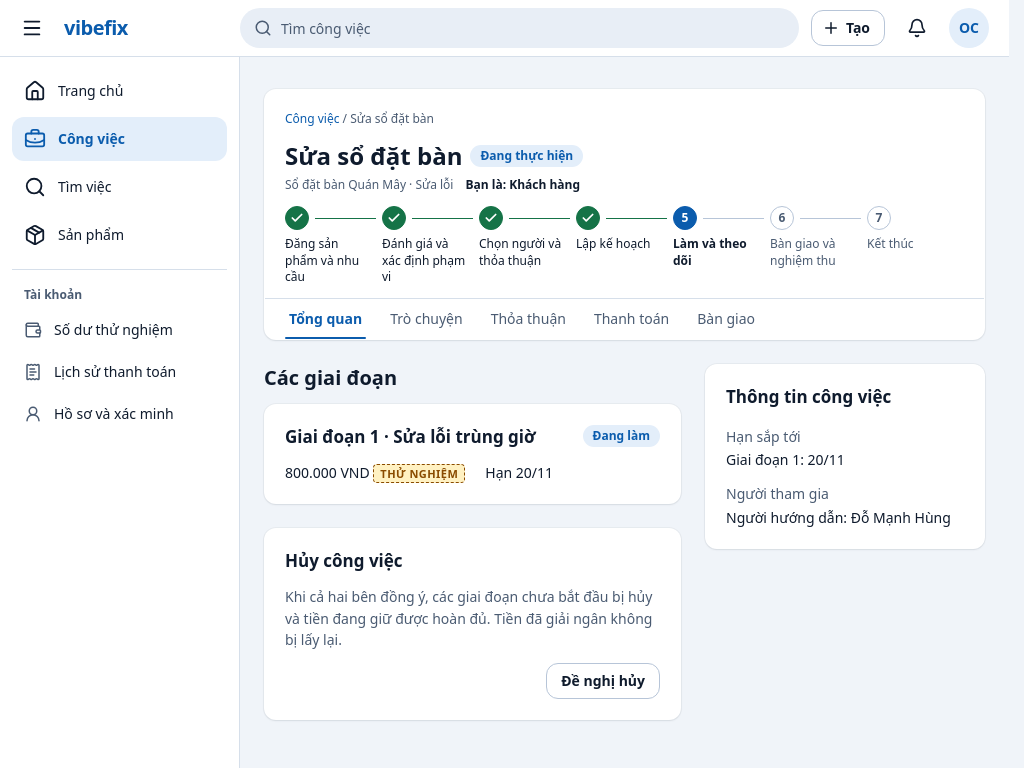
JOB-1 cancellation by agreement (FR-40) › lets the Customer propose cancelling the remaining Milestones with a reason
The image size is (1024, 768).
Click the button "Đề nghị hủy": (603, 681) [546,663,660,699]
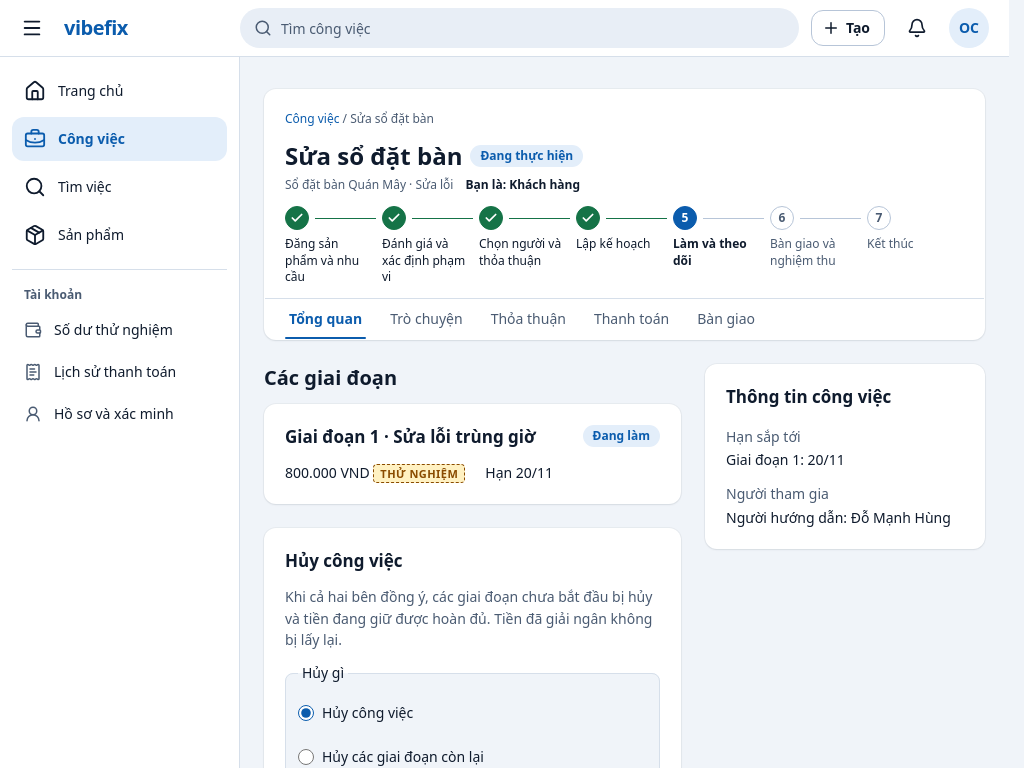
Click the radio button labelled "Hủy các giai đoạn còn lại": (306, 757) [298,749,314,765]
(page scrolled)
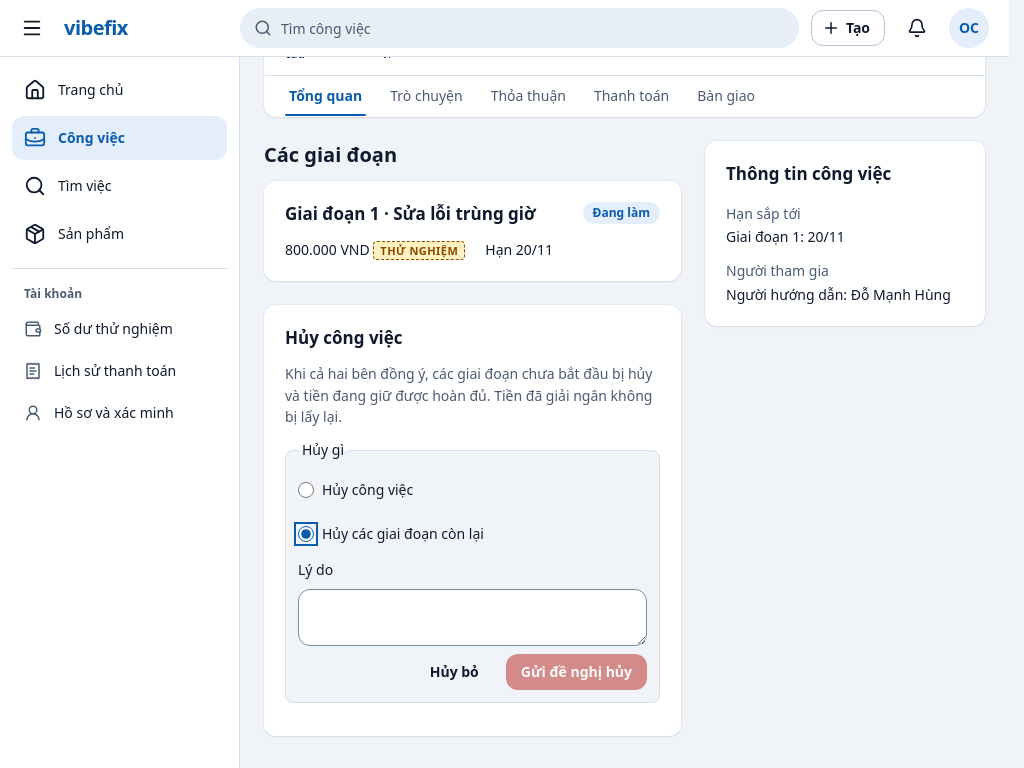
In the text box labelled "Lý do": (472, 617) [298,588,647,646], type "Không còn cần nữa"
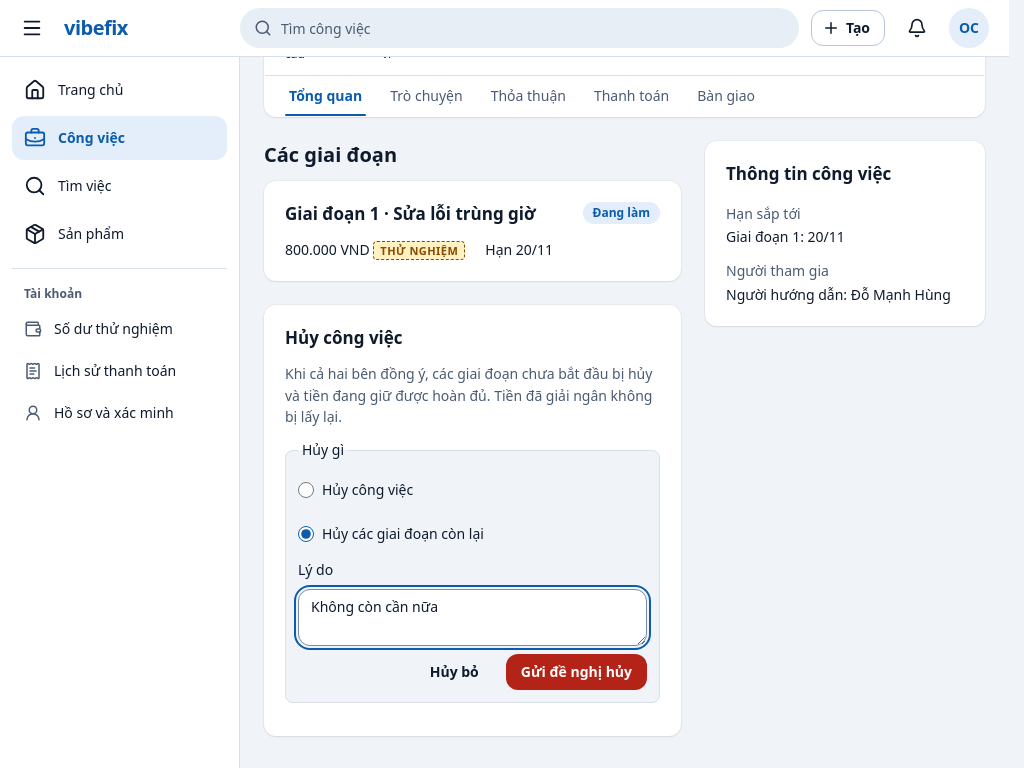
Click the button "Gửi đề nghị hủy": (576, 672) [506,654,647,690]
(page scrolled)
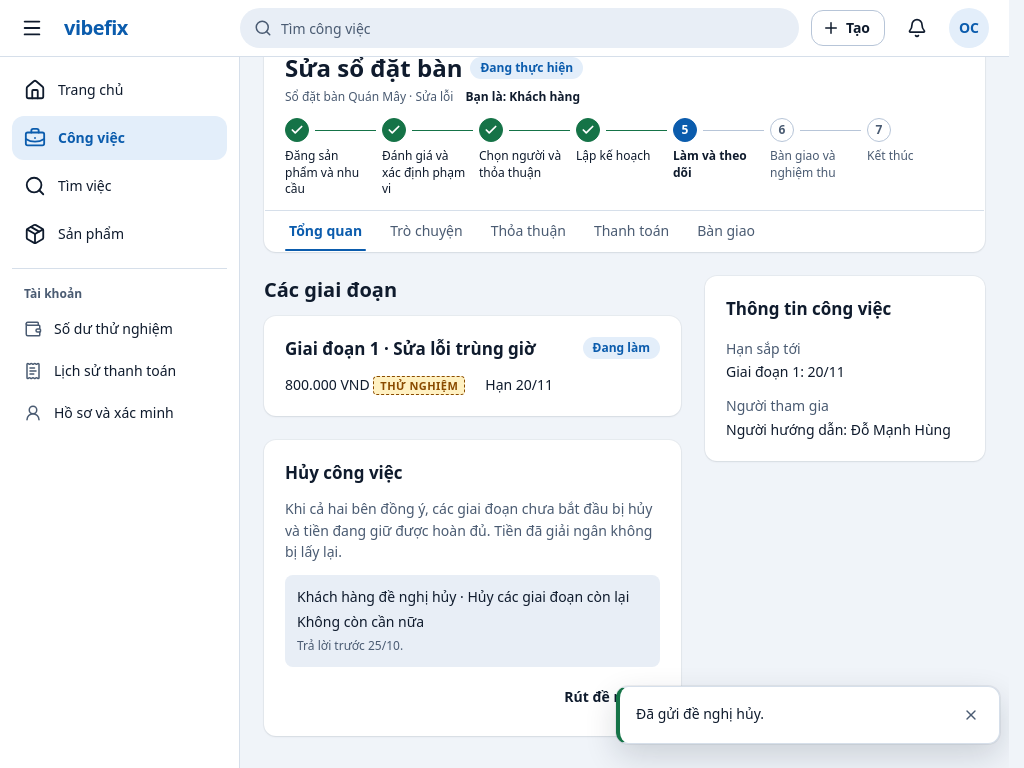
Expected: the text "Khách hàng đề nghị hủy · Hủy các giai đoạn còn lại" is shown, [297,587,648,607]
Expected: the button "Rút đề nghị" is shown, [549,679,660,715]
